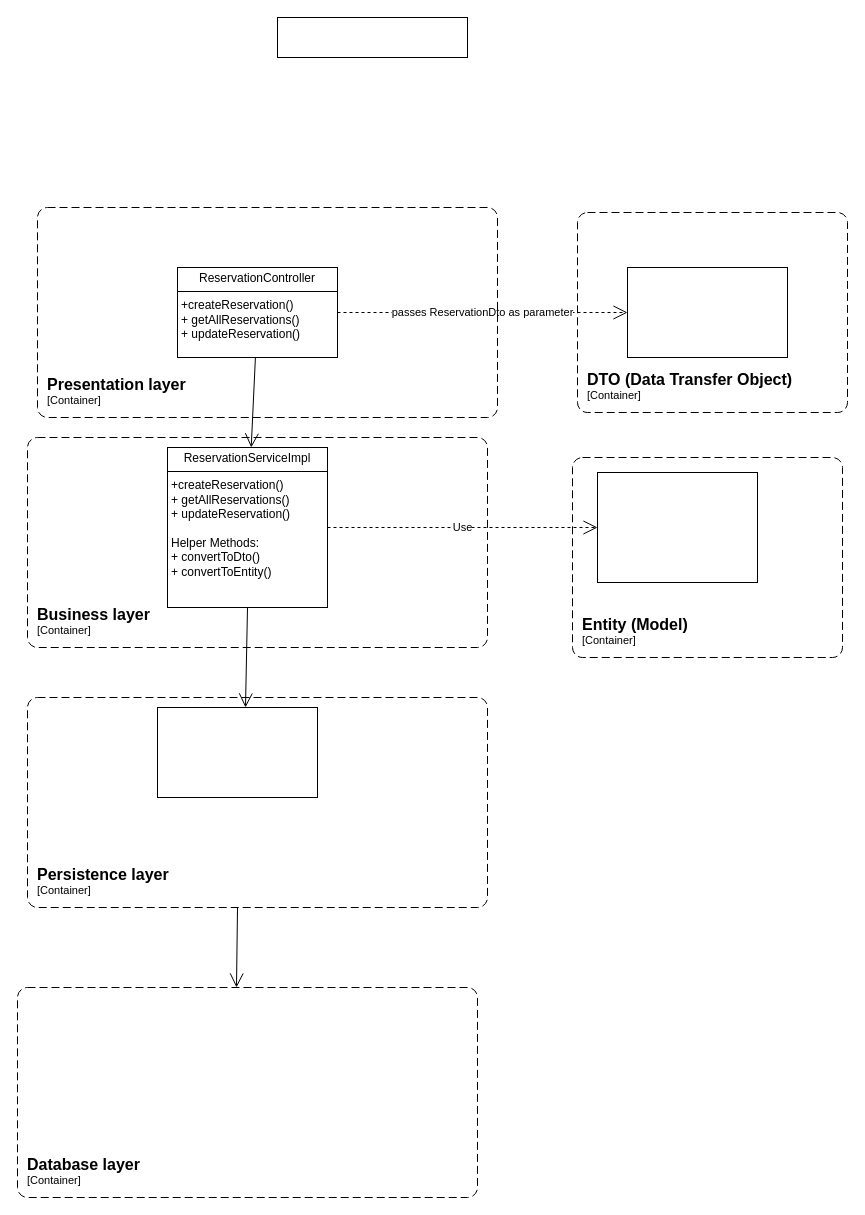
Image size: 865x1215. Some labels were removed from this diagram. Here are the shapes that lost their labels. From the top down, the centre of each, then its label:
the point at 372,37: Reservation Level 4 Diagram
the point at 707,312: ReservationDto - customerName - reservationDate - numberOfPeople - companyId
the point at 677,527: Reservation - id - customerName - reservationDate - numberOfPeople - Company
the point at 237,752: ReservationRepository + save () + findAll () + findById ()
